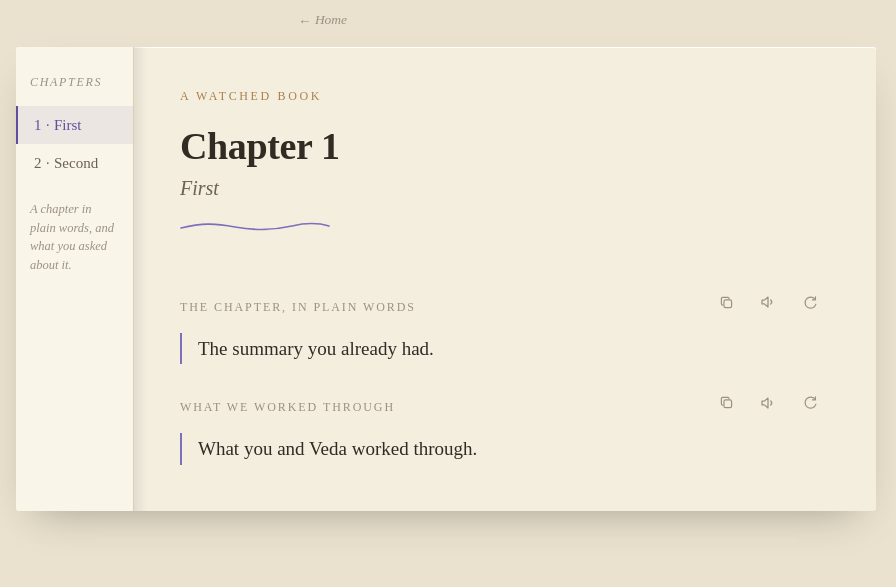
watching a summary being written › keeps the summary the reader had when the model does not answer
Check: the text "The summary you already had." is shown, box [198, 338, 434, 359]
Step 1. Click the button named "Redo the chapter summary" → (810, 302), box [790, 282, 830, 322]
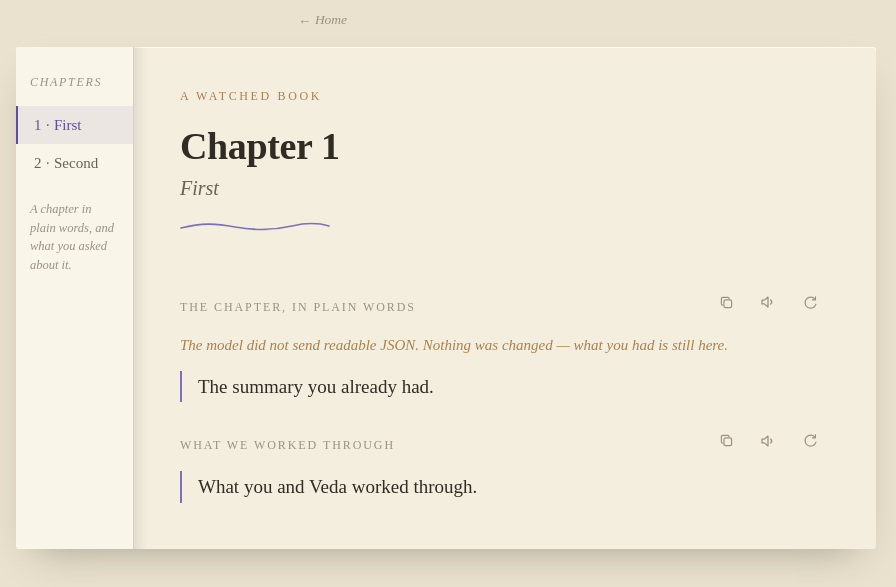
Check: the text "The summary you already had." is shown, box [198, 376, 434, 397]
Check: the text "The model did not send readable JSON" is shown, box [180, 337, 419, 353]
